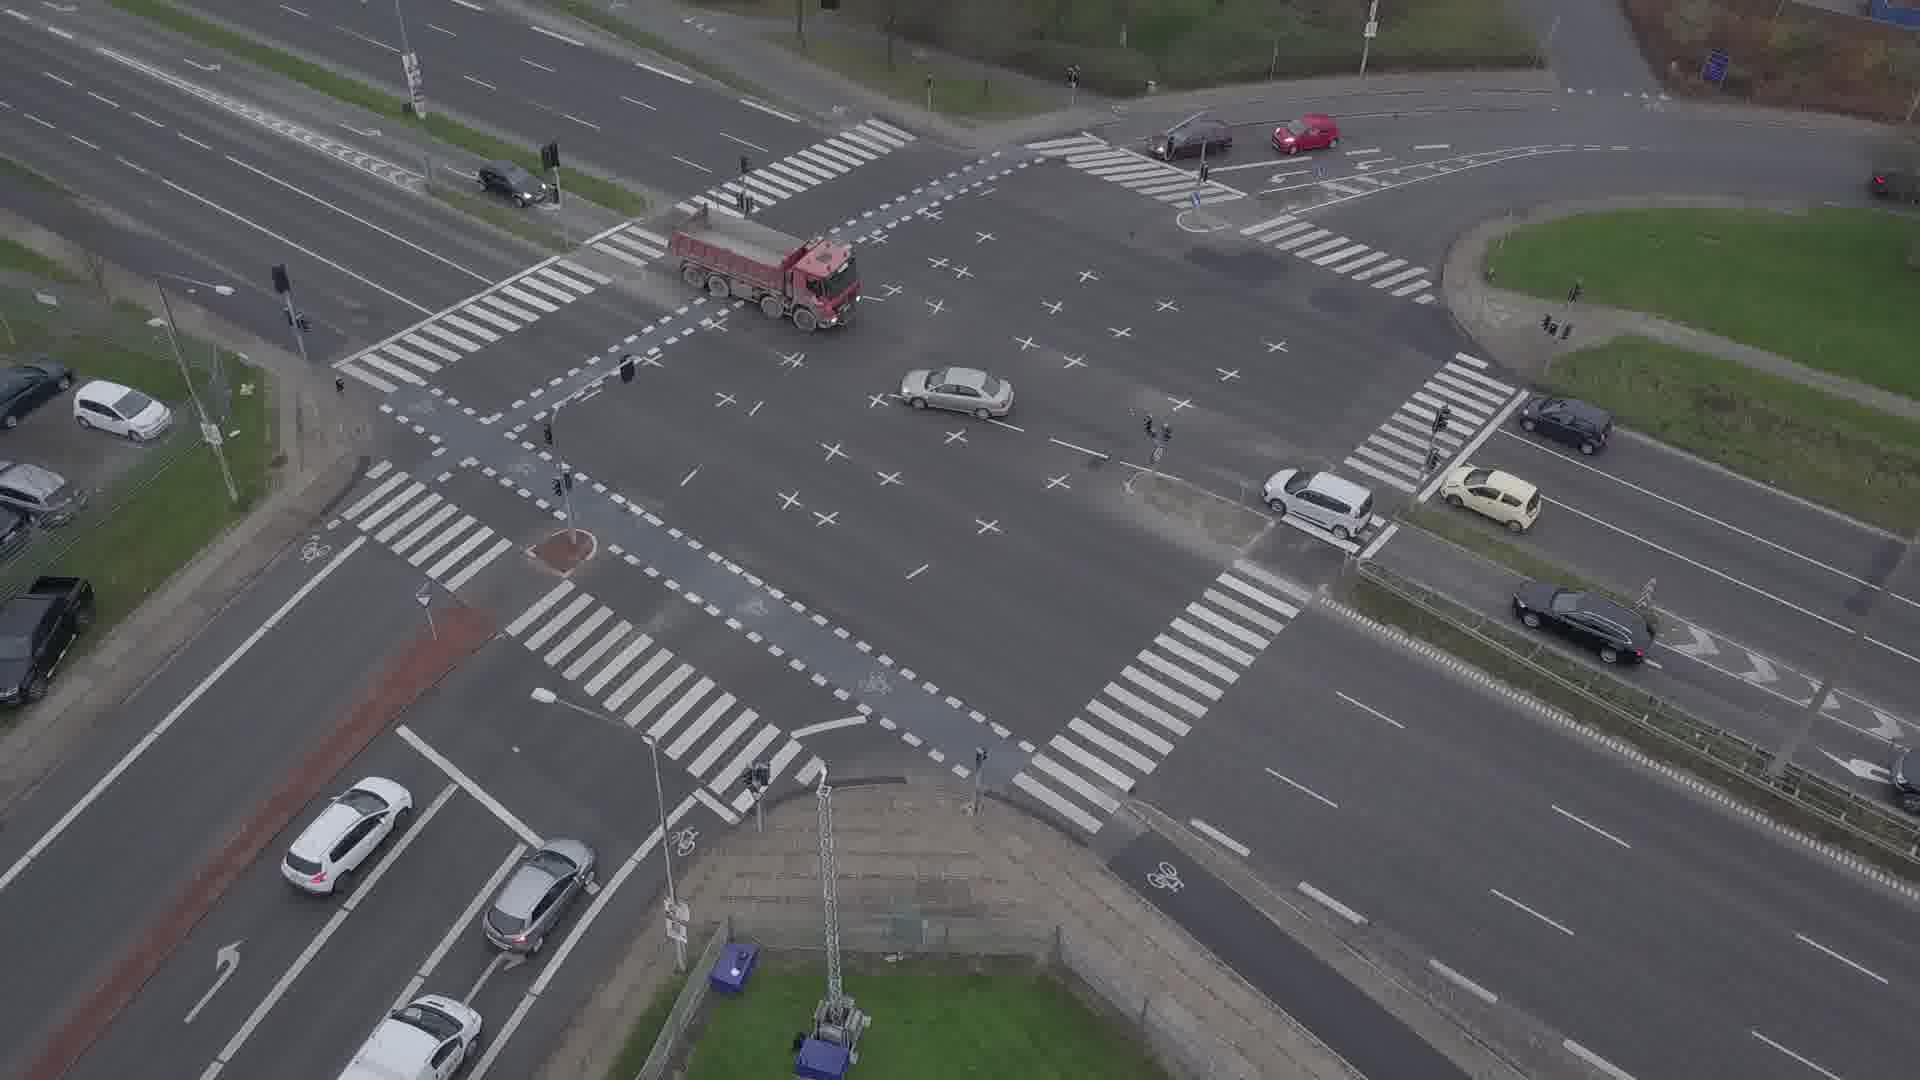car: (279, 776, 413, 895), (481, 837, 598, 955), (1511, 579, 1657, 666), (1262, 469, 1373, 540), (1440, 466, 1542, 534), (900, 367, 1014, 420), (1520, 395, 1614, 455), (1149, 118, 1233, 157), (476, 164, 546, 206), (1270, 115, 1338, 155), (1871, 161, 1920, 203)
lorry: (672, 205, 862, 332), (315, 994, 484, 1080)
